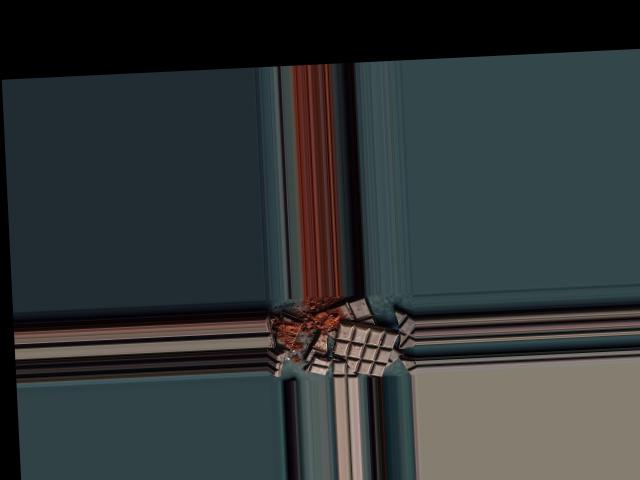chocolate: (332, 319, 402, 378)
